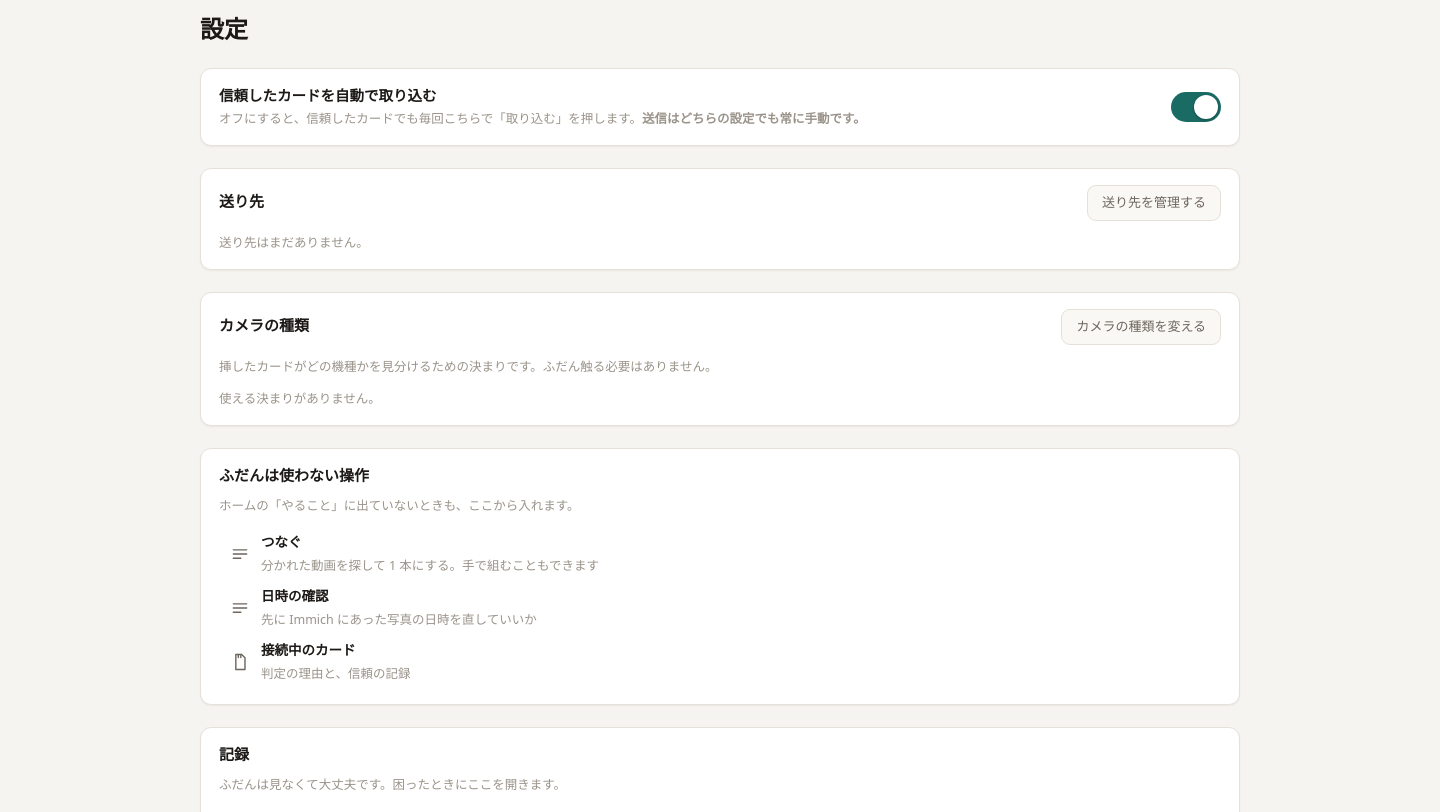
設定のトップ › 設定から開いた画面は、設定へ戻れる（遷移元を渡す）
What coordinates should you click on to do the following:
click the link "つなぐ 分かれた動画を探して 1 本にする。手で組むこともできます"
I would click on:
 (281, 542)
Its box is [230, 532, 599, 574].
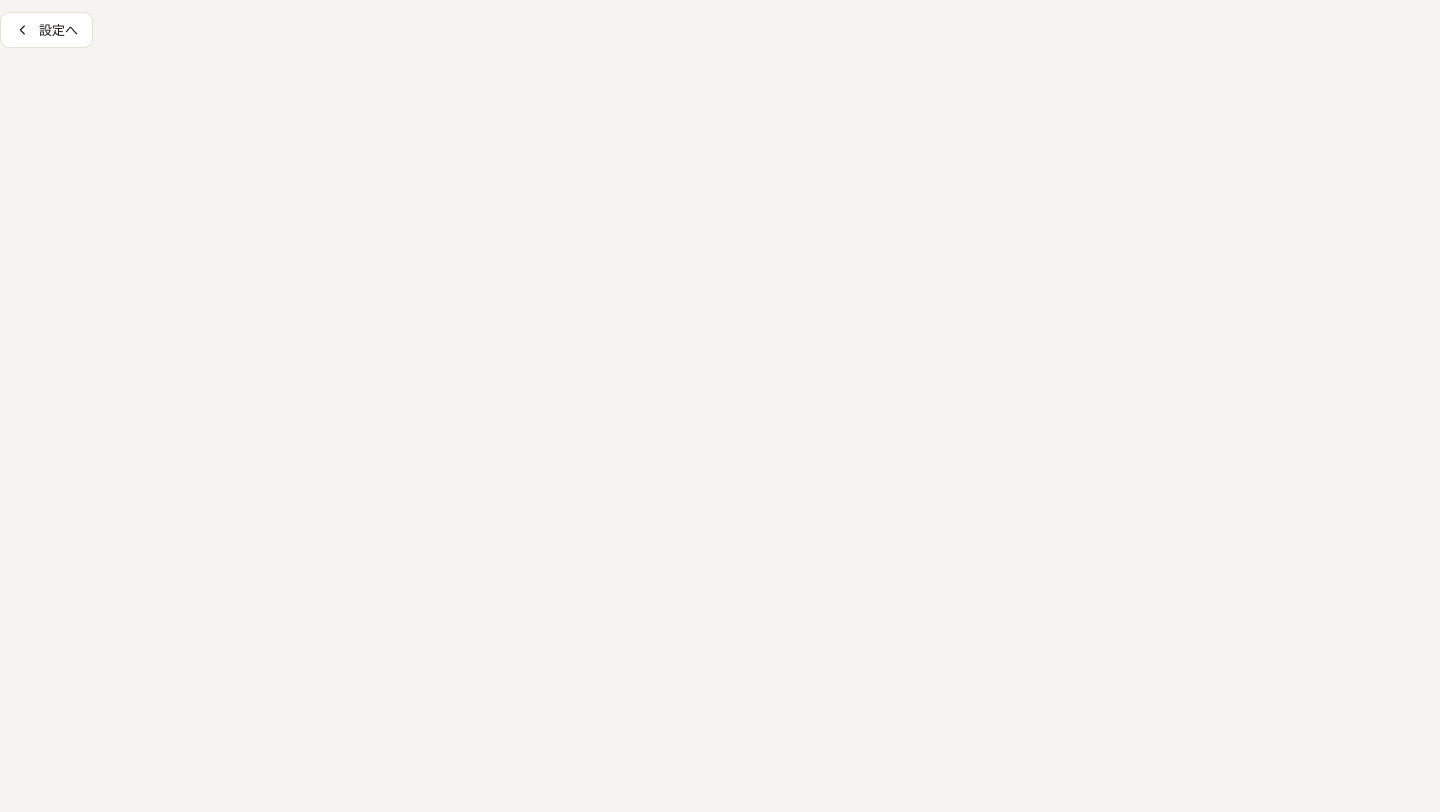
Now the link "設定へ" is shown, box [0, 12, 93, 48]
